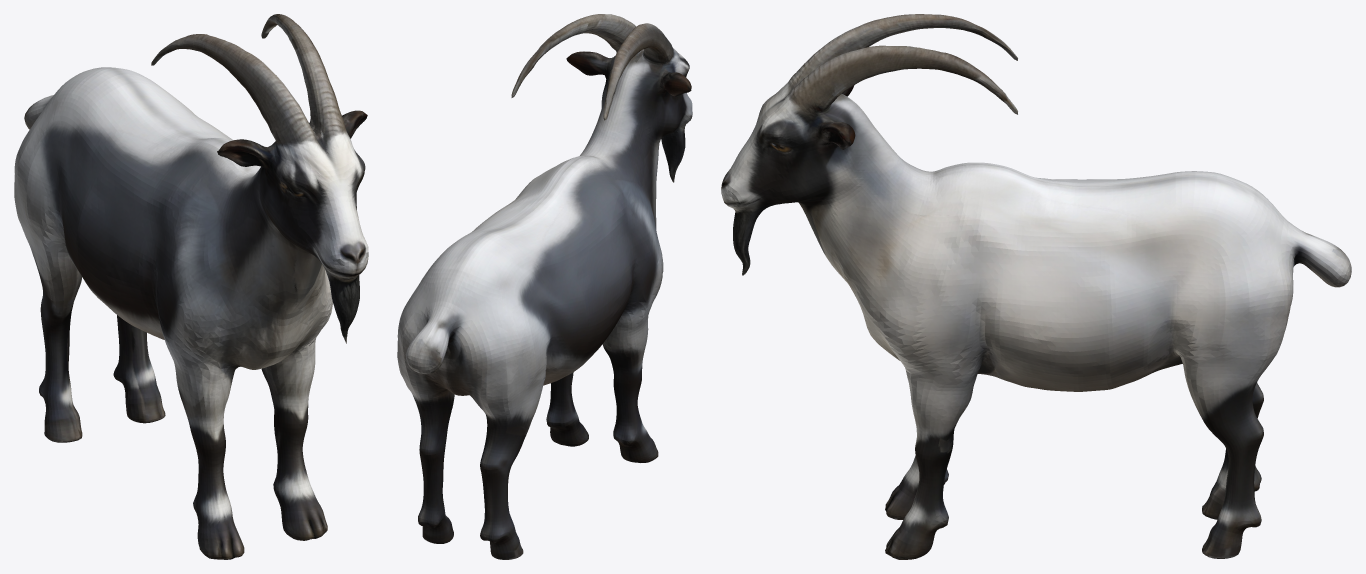
The model's file is goat.glb.
3 views of the same model, side by side, from view 1: azimuth 30°, elevation 25°; view 2: azimuth 150°, elevation 25°; view 3: azimuth 270°, elevation 25° (orthographic). The views are drawn at different scales.
Bounding box in the file's own units: 0.6091 × 1.76 × 2.
Materials: 1 (1 with a texture image).
